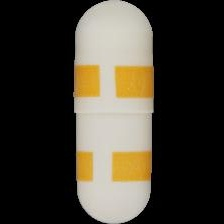10544-929: (0, 0, 224, 224)
